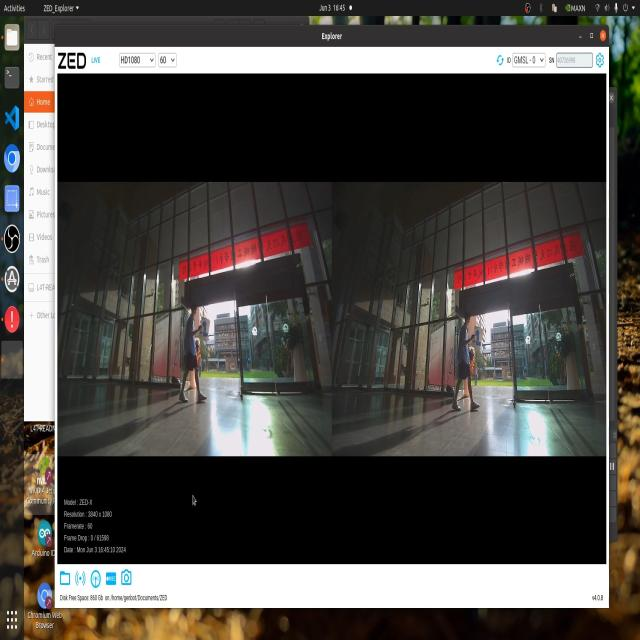blue: (198, 318, 212, 338), (473, 328, 483, 354)
